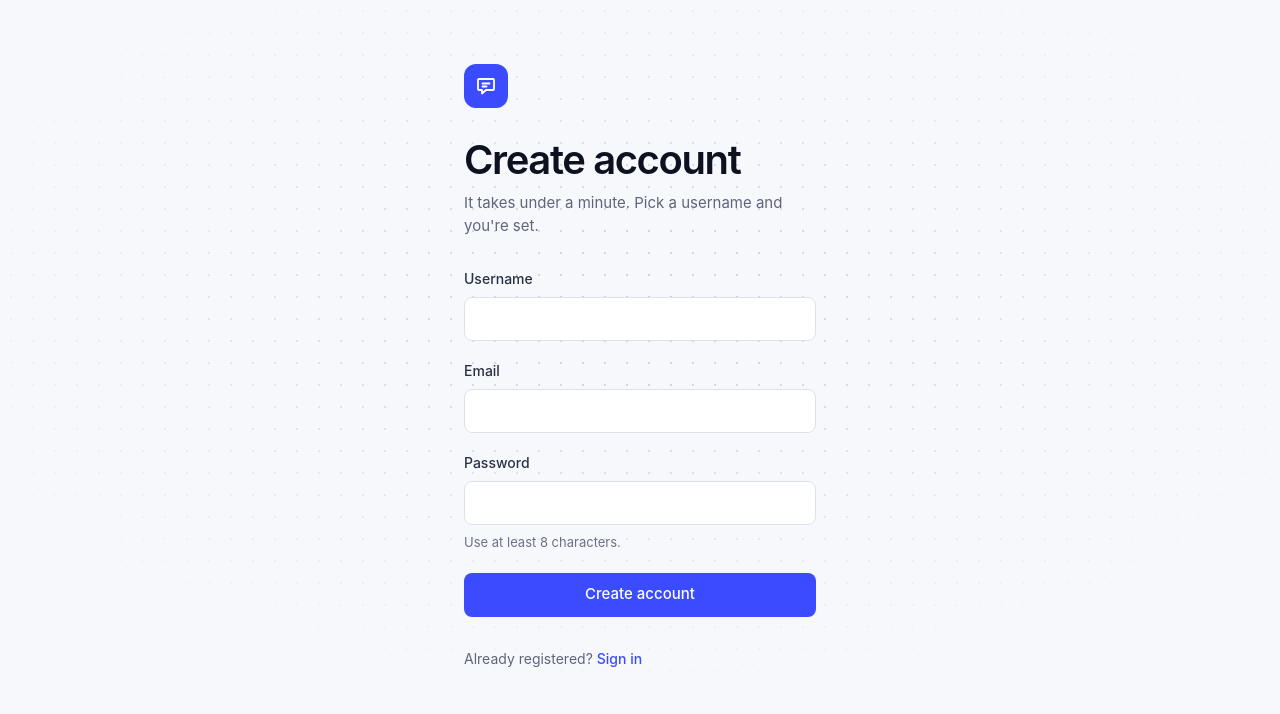
Test: RegisterPage › displays an error when registration fails
The width and height of the screenshot is (1280, 714).
Type "john" into the field labelled "Username" at (640, 319), box left=464, top=297, right=816, bottom=341
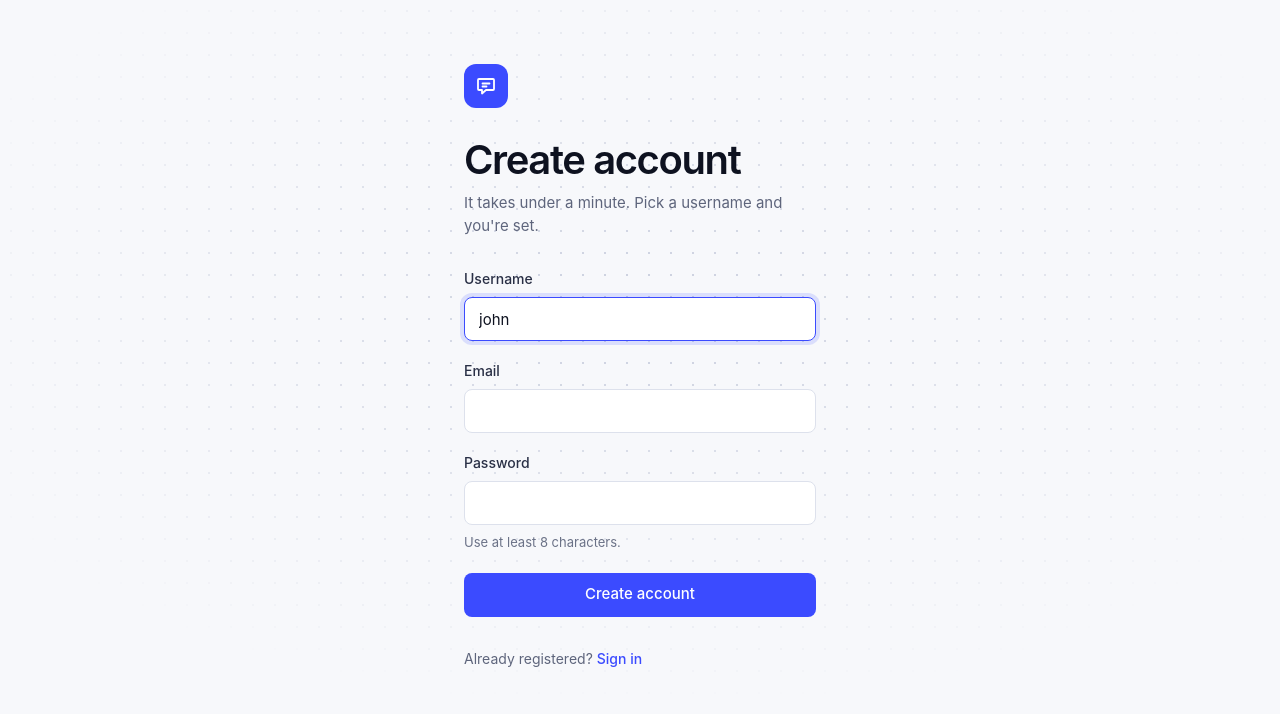
Type "john@example.com" into the field labelled "Email" at (640, 411), box left=464, top=389, right=816, bottom=433
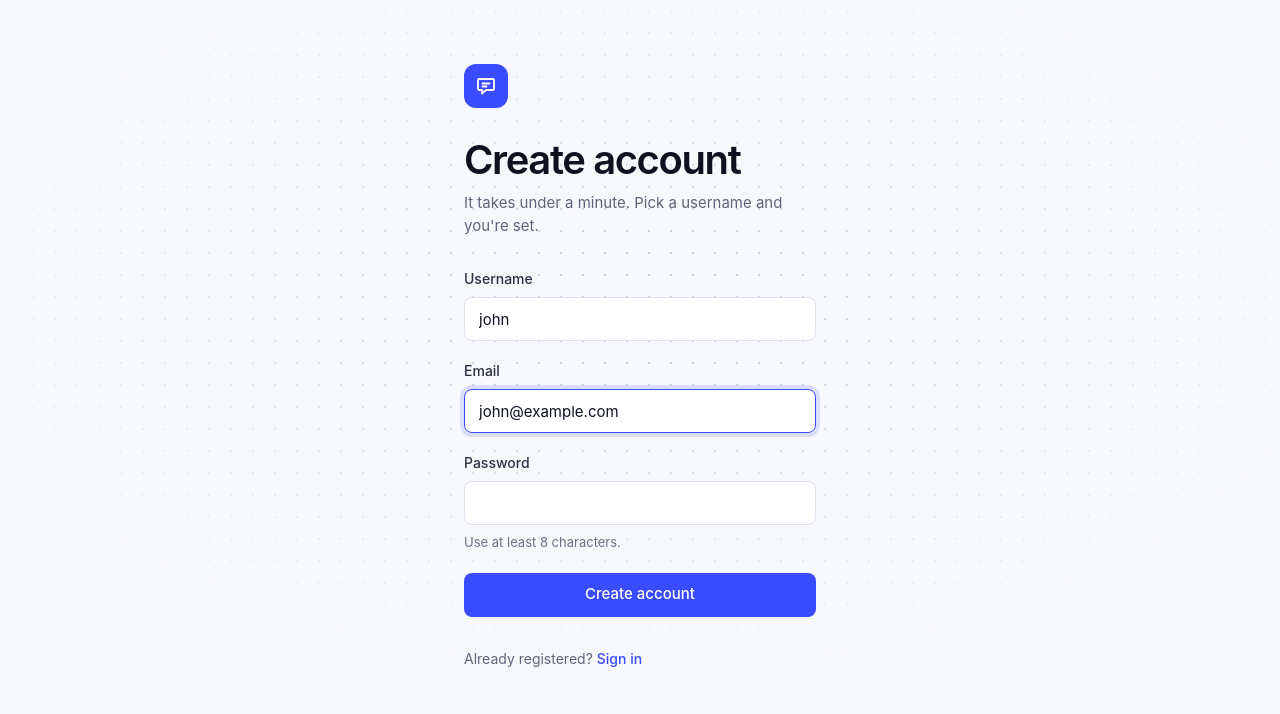
Type "StrongPassword123!" into the password field labelled "Password" at (640, 503), box left=464, top=481, right=816, bottom=525
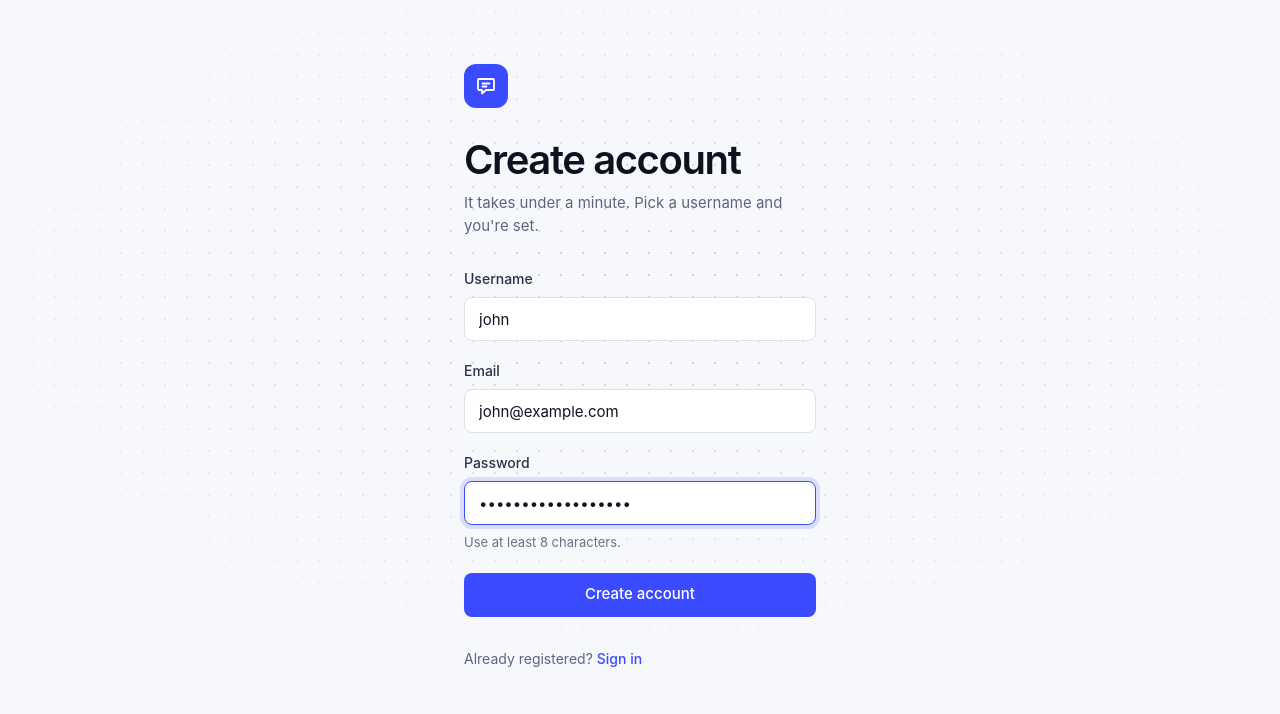
Click the button "Create account" at (640, 594), box left=464, top=572, right=816, bottom=616
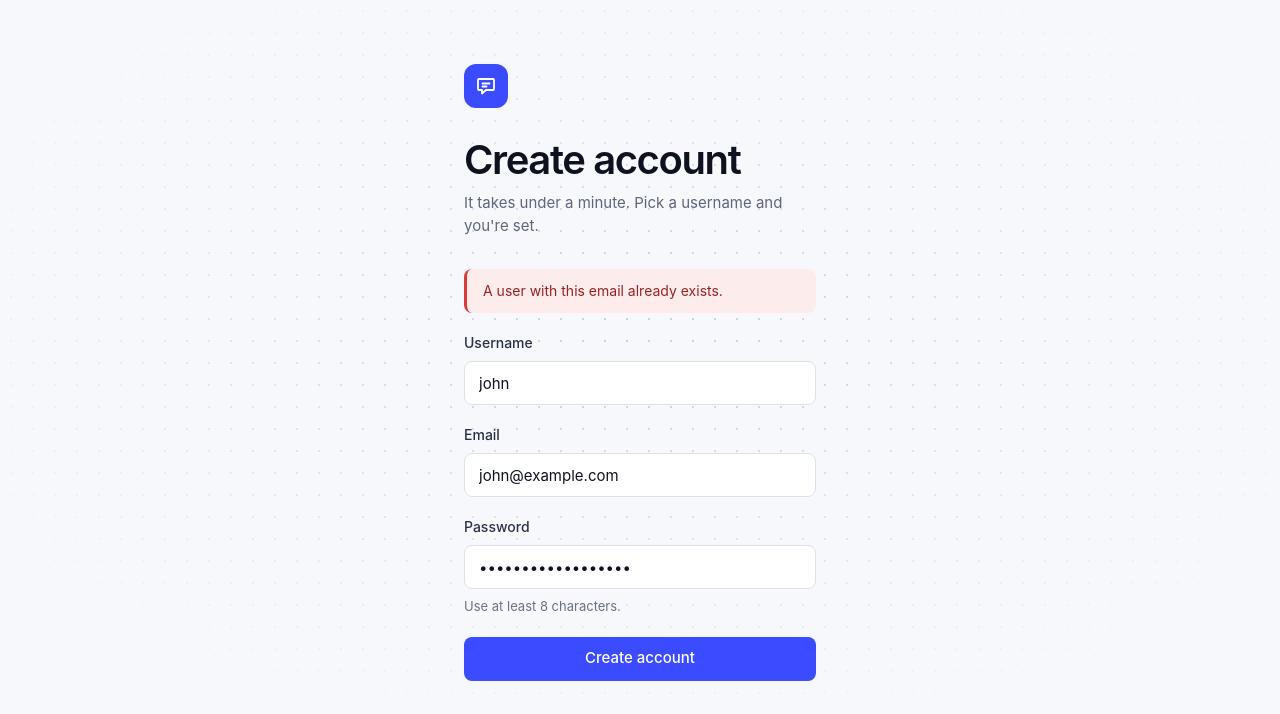
Check: the text "A user with this email already exists." is shown, box left=464, top=269, right=816, bottom=313
